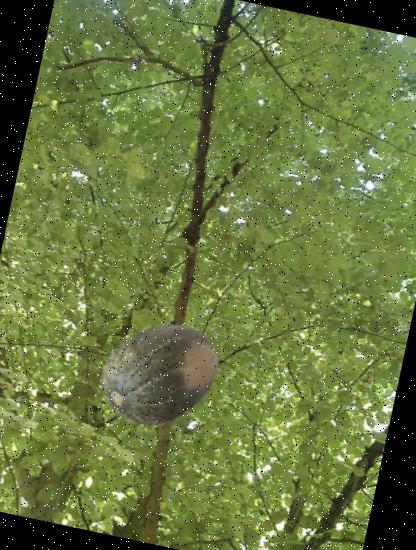Melon: (89, 308, 233, 452)
